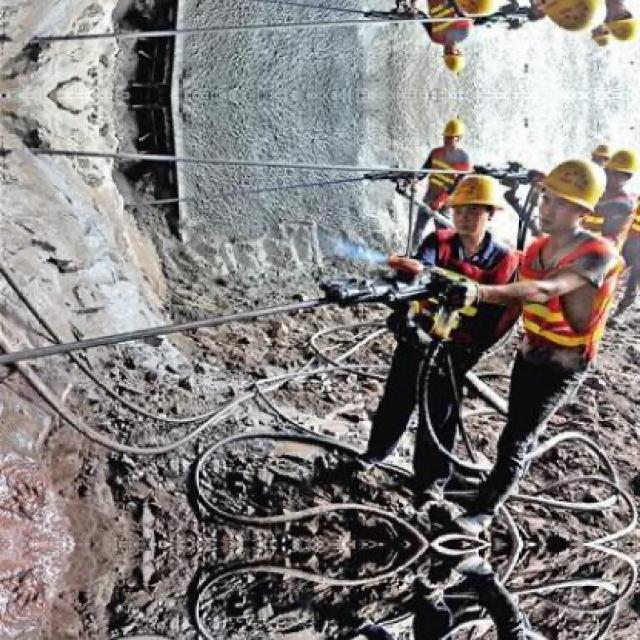helmet: (531, 150, 611, 238), (440, 168, 509, 242), (529, 0, 611, 43), (440, 0, 511, 25), (600, 143, 637, 190), (600, 1, 637, 48), (440, 41, 469, 76), (440, 116, 469, 150)
